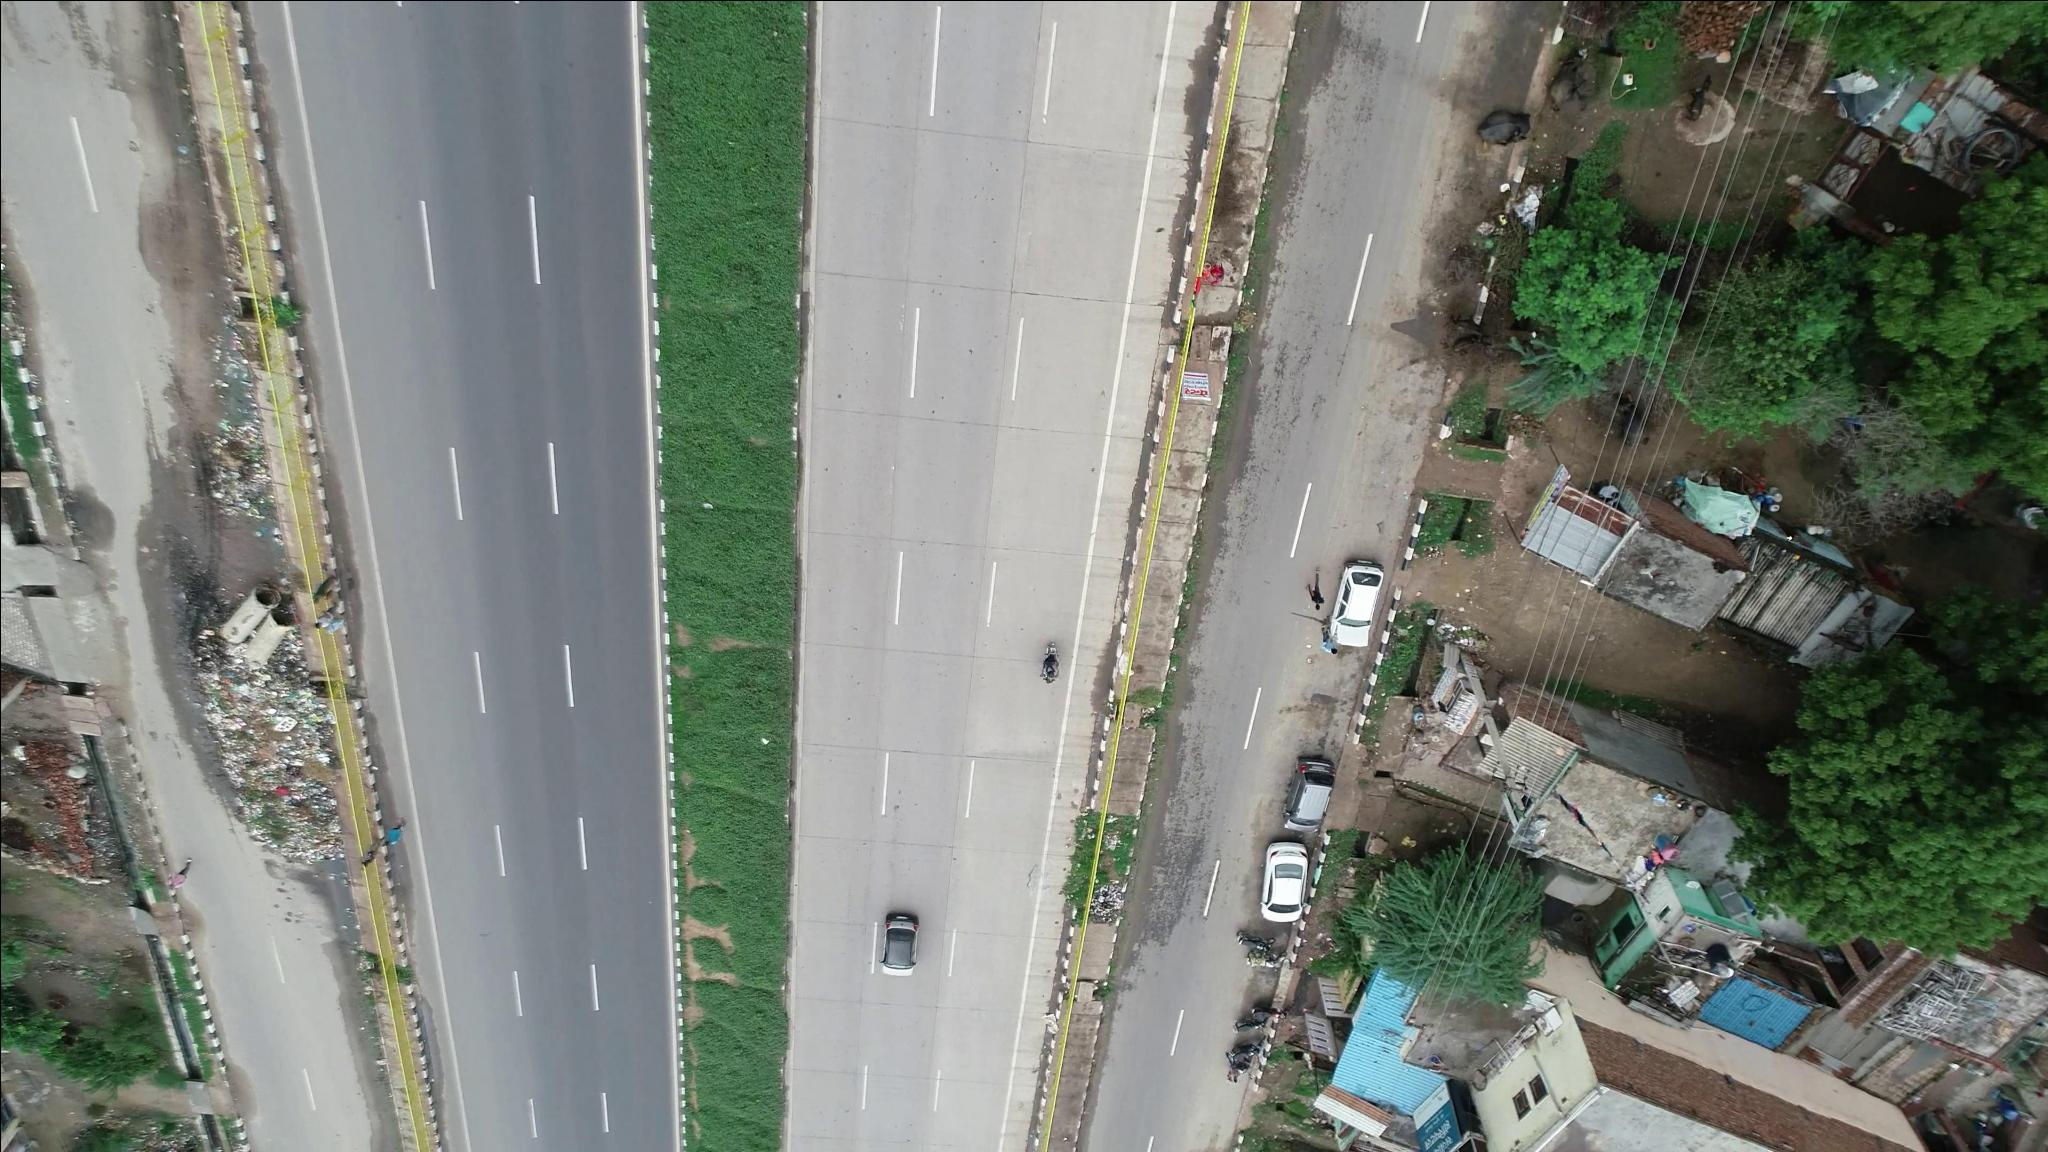Road_side_garbage: (198, 629, 340, 873)
